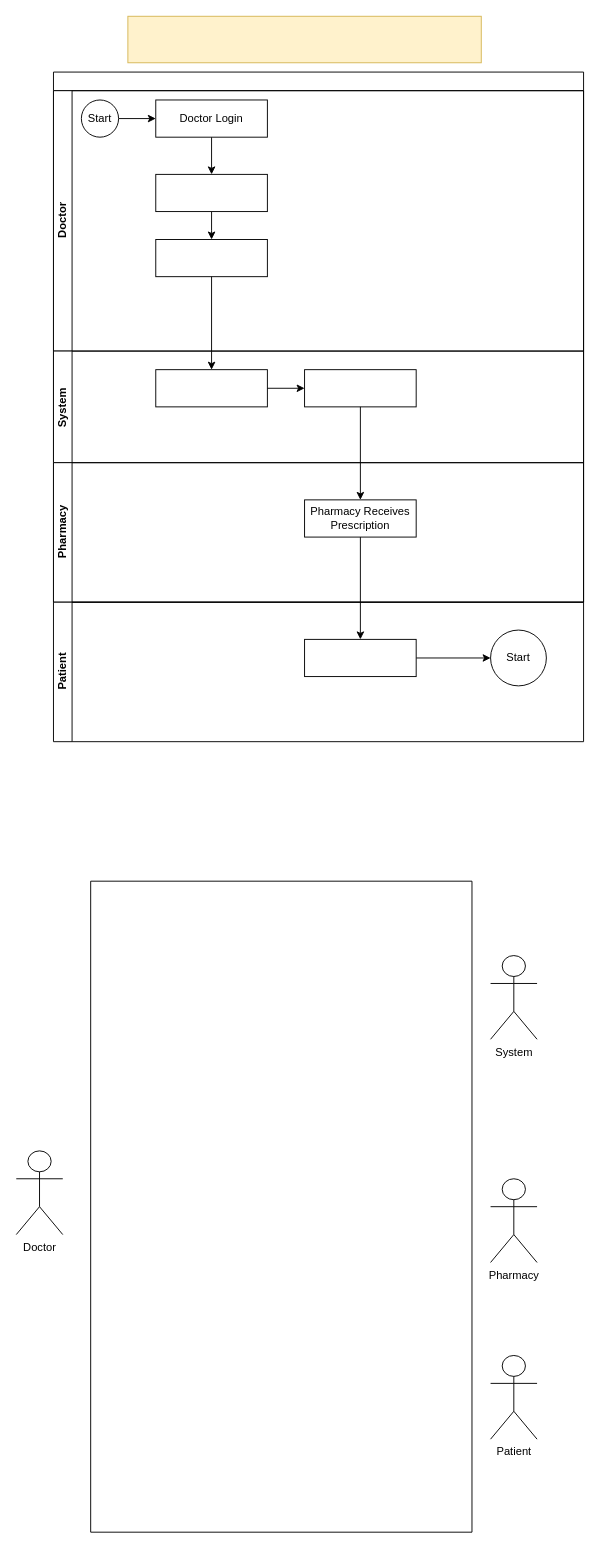
Image size: 600x1548. Some labels were removed from this diagram. Here are the shapes that lost their labels. From the top down, the box of each, then its label:
(127, 15, 481, 63): Healthcare Case Study: Electronic Prescription Management System
(155, 173, 267, 212): Search and Select Patient
(155, 239, 267, 277): Enter Diagnosis and prescribe medication
(155, 369, 267, 407): Save Prescription
(304, 369, 416, 407): Notify Pharmacy
(304, 638, 416, 677): Patient Views Prescription
